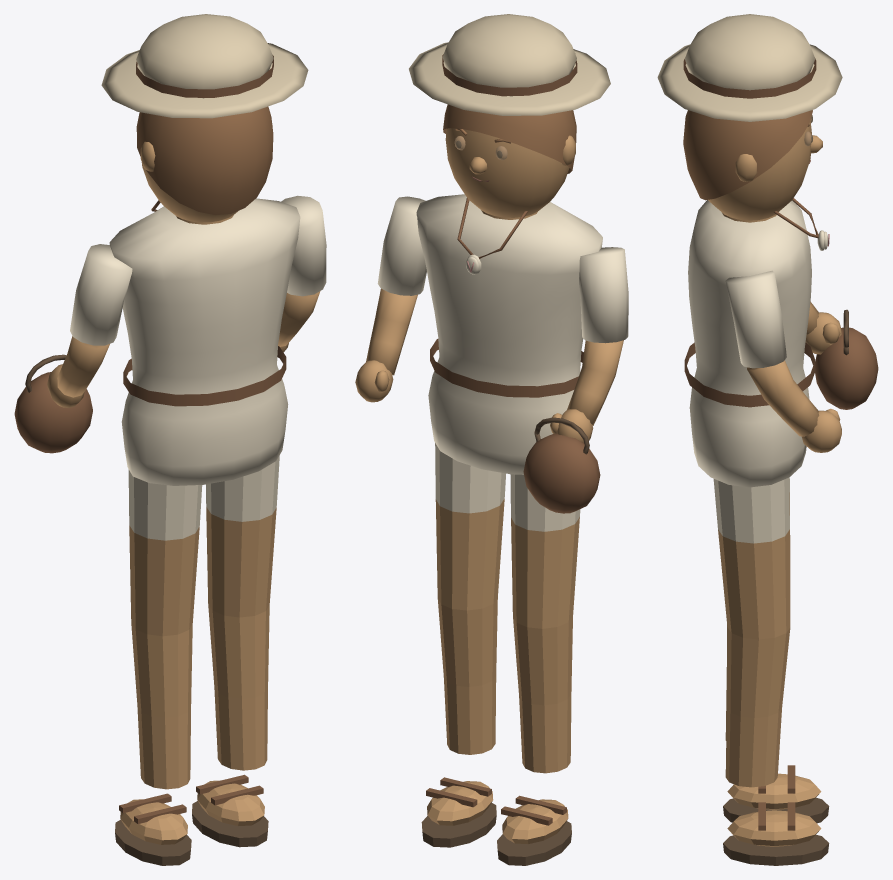
Rendered from SM_NPC_CONCHA.glb.
3 views of the same model, side by side, from view 1: azimuth 30°, elevation 25°; view 2: azimuth 150°, elevation 25°; view 3: azimuth 270°, elevation 25° (orthographic). The views are drawn at different scales.
Visible parts, largest first — view 1: SM_NPC_CONCHA_BODY, SM_NPC_CONCHA_HAIR, SM_NPC_CONCHA_LEG_L, SM_NPC_CONCHA_LEG_R, SM_NPC_CONCHA_ARM_L, SM_NPC_CONCHA_ARM_R, SM_NPC_CONCHA_HEAD; view 2: SM_NPC_CONCHA_BODY, SM_NPC_CONCHA_LEG_R, SM_NPC_CONCHA_LEG_L, SM_NPC_CONCHA_HAIR, SM_NPC_CONCHA_ARM_L, SM_NPC_CONCHA_HEAD, SM_NPC_CONCHA_ARM_R; view 3: SM_NPC_CONCHA_BODY, SM_NPC_CONCHA_LEG_R, SM_NPC_CONCHA_HAIR, SM_NPC_CONCHA_ARM_R, SM_NPC_CONCHA_ARM_L, SM_NPC_CONCHA_HEAD, SM_NPC_CONCHA_LEG_L.
Boxes of the visible parts, <box> form: SM_NPC_CONCHA_BODY: <box>109,198,300,485</box>; SM_NPC_CONCHA_HAIR: <box>101,14,308,215</box>; SM_NPC_CONCHA_LEG_L: <box>115,469,202,865</box>; SM_NPC_CONCHA_LEG_R: <box>192,455,279,847</box>; SM_NPC_CONCHA_ARM_L: <box>14,244,132,453</box>; SM_NPC_CONCHA_ARM_R: <box>278,195,326,352</box>; SM_NPC_CONCHA_HEAD: <box>140,125,272,222</box>; SM_NPC_CONCHA_BODY: <box>416,194,602,474</box>; SM_NPC_CONCHA_LEG_R: <box>421,443,505,847</box>; SM_NPC_CONCHA_LEG_L: <box>497,474,580,865</box>; SM_NPC_CONCHA_HAIR: <box>409,14,610,173</box>; SM_NPC_CONCHA_ARM_L: <box>523,247,628,513</box>; SM_NPC_CONCHA_HEAD: <box>445,128,575,217</box>; SM_NPC_CONCHA_ARM_R: <box>355,196,426,402</box>; SM_NPC_CONCHA_BODY: <box>684,198,829,487</box>; SM_NPC_CONCHA_LEG_R: <box>713,477,829,865</box>; SM_NPC_CONCHA_HAIR: <box>657,14,842,200</box>; SM_NPC_CONCHA_ARM_R: <box>725,270,841,452</box>; SM_NPC_CONCHA_ARM_L: <box>805,301,878,409</box>; SM_NPC_CONCHA_HEAD: <box>708,121,822,220</box>; SM_NPC_CONCHA_LEG_L: <box>723,479,829,823</box>.
Size of the model in its own units: 0.6321 by 1.89 by 0.4666.
